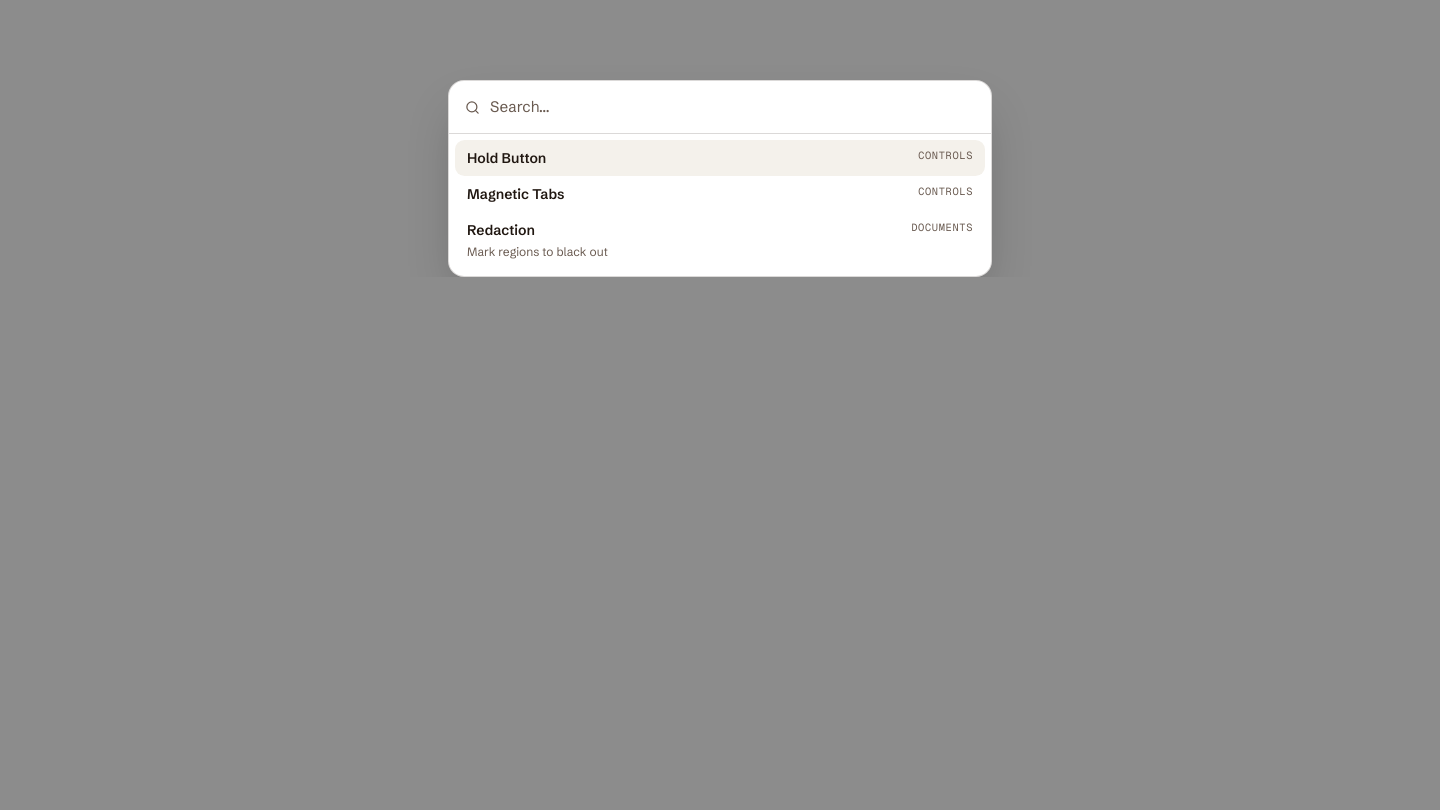
CommandPalette › reports nothing found rather than showing an empty list
Step 1. Type "zzzz" into the dropdown → [732, 107], box [490,81,975,133]
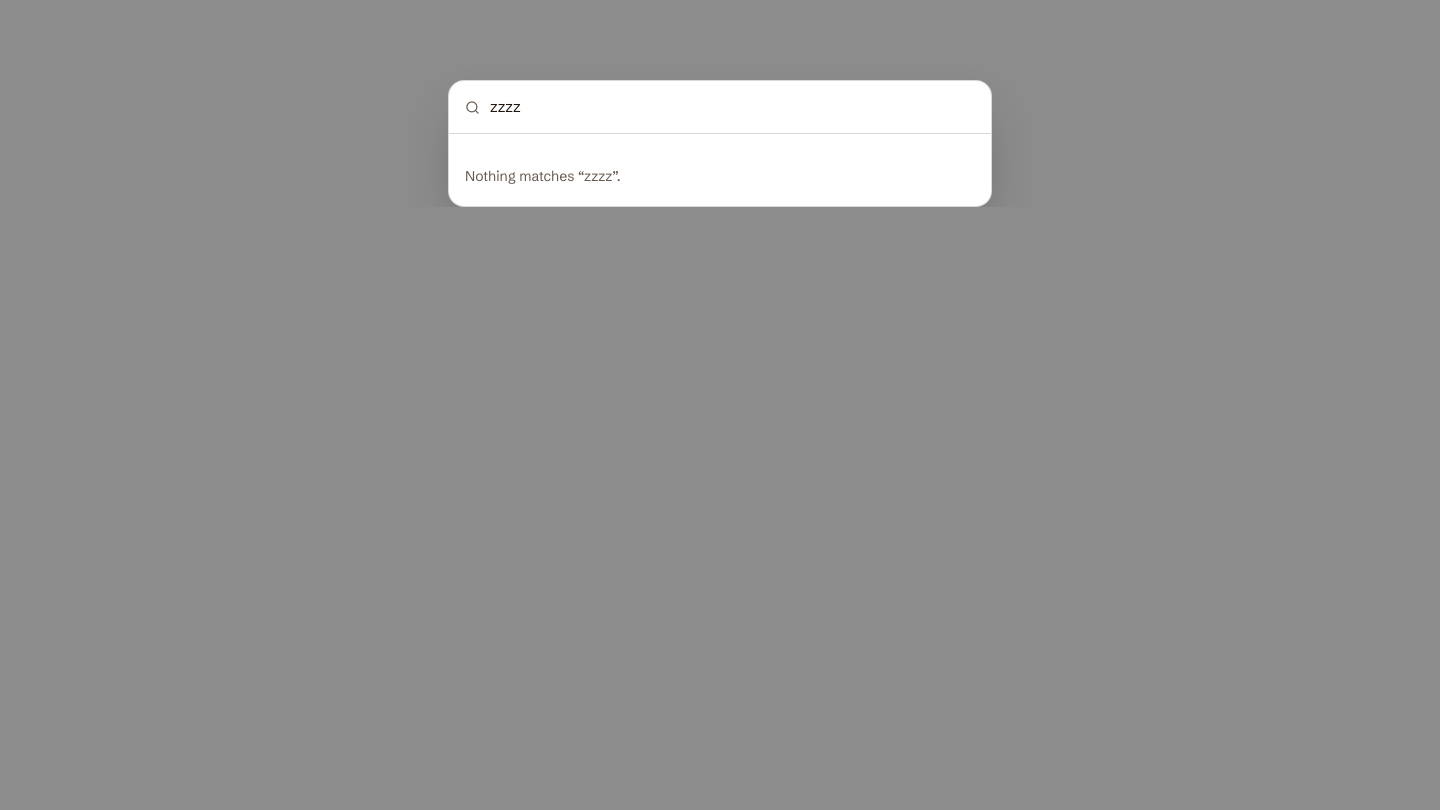
Result: the option is gone
Result: the message shows "zzzz" at [465,167,621,185]
